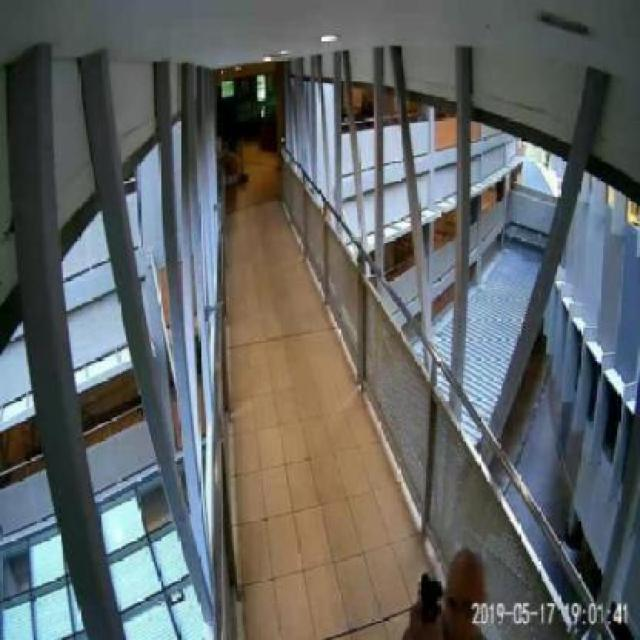gun: (414, 568, 441, 638)
